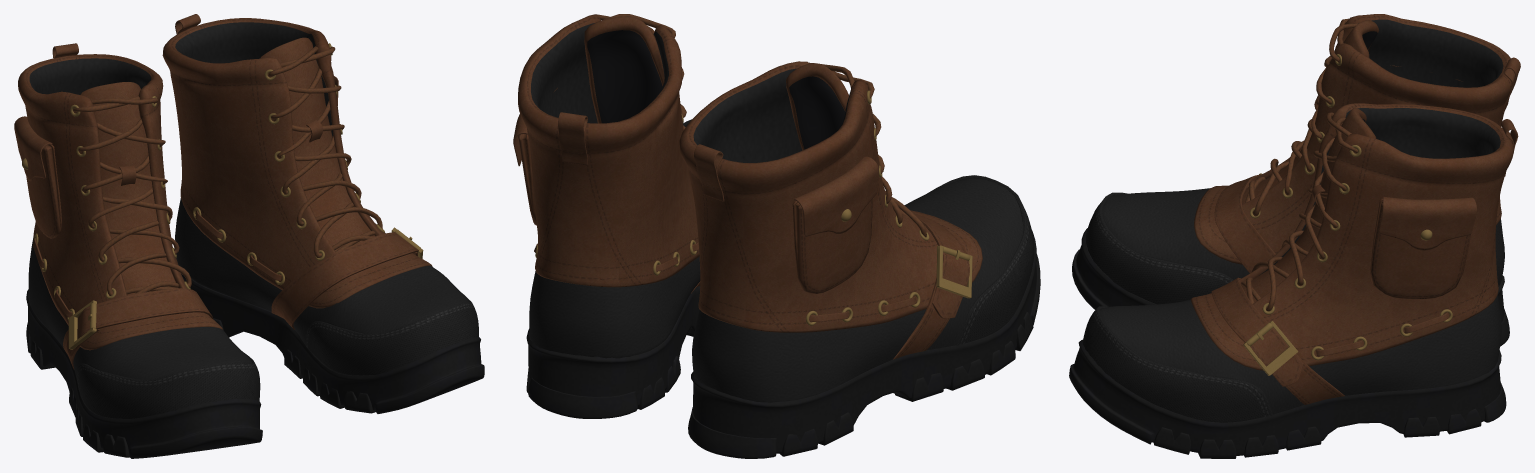
File: boots.fbx
The picture shows the model from 3 angles, left to right: view 1: azimuth 30°, elevation 25°; view 2: azimuth 150°, elevation 25°; view 3: azimuth 270°, elevation 25°; orthographic projection. The views are drawn at different scales.
Visible parts, largest first — view 1: 13642_Polo_Boots_v1_L2; view 2: 13642_Polo_Boots_v1_L2; view 3: 13642_Polo_Boots_v1_L2.
Part boxes in pixels (x1,y1,x2,y2): 13642_Polo_Boots_v1_L2: (14,14,484,458); 13642_Polo_Boots_v1_L2: (513,14,1040,458); 13642_Polo_Boots_v1_L2: (1069,14,1520,458).
Size of the model in its own units: 150 by 117 by 157.
